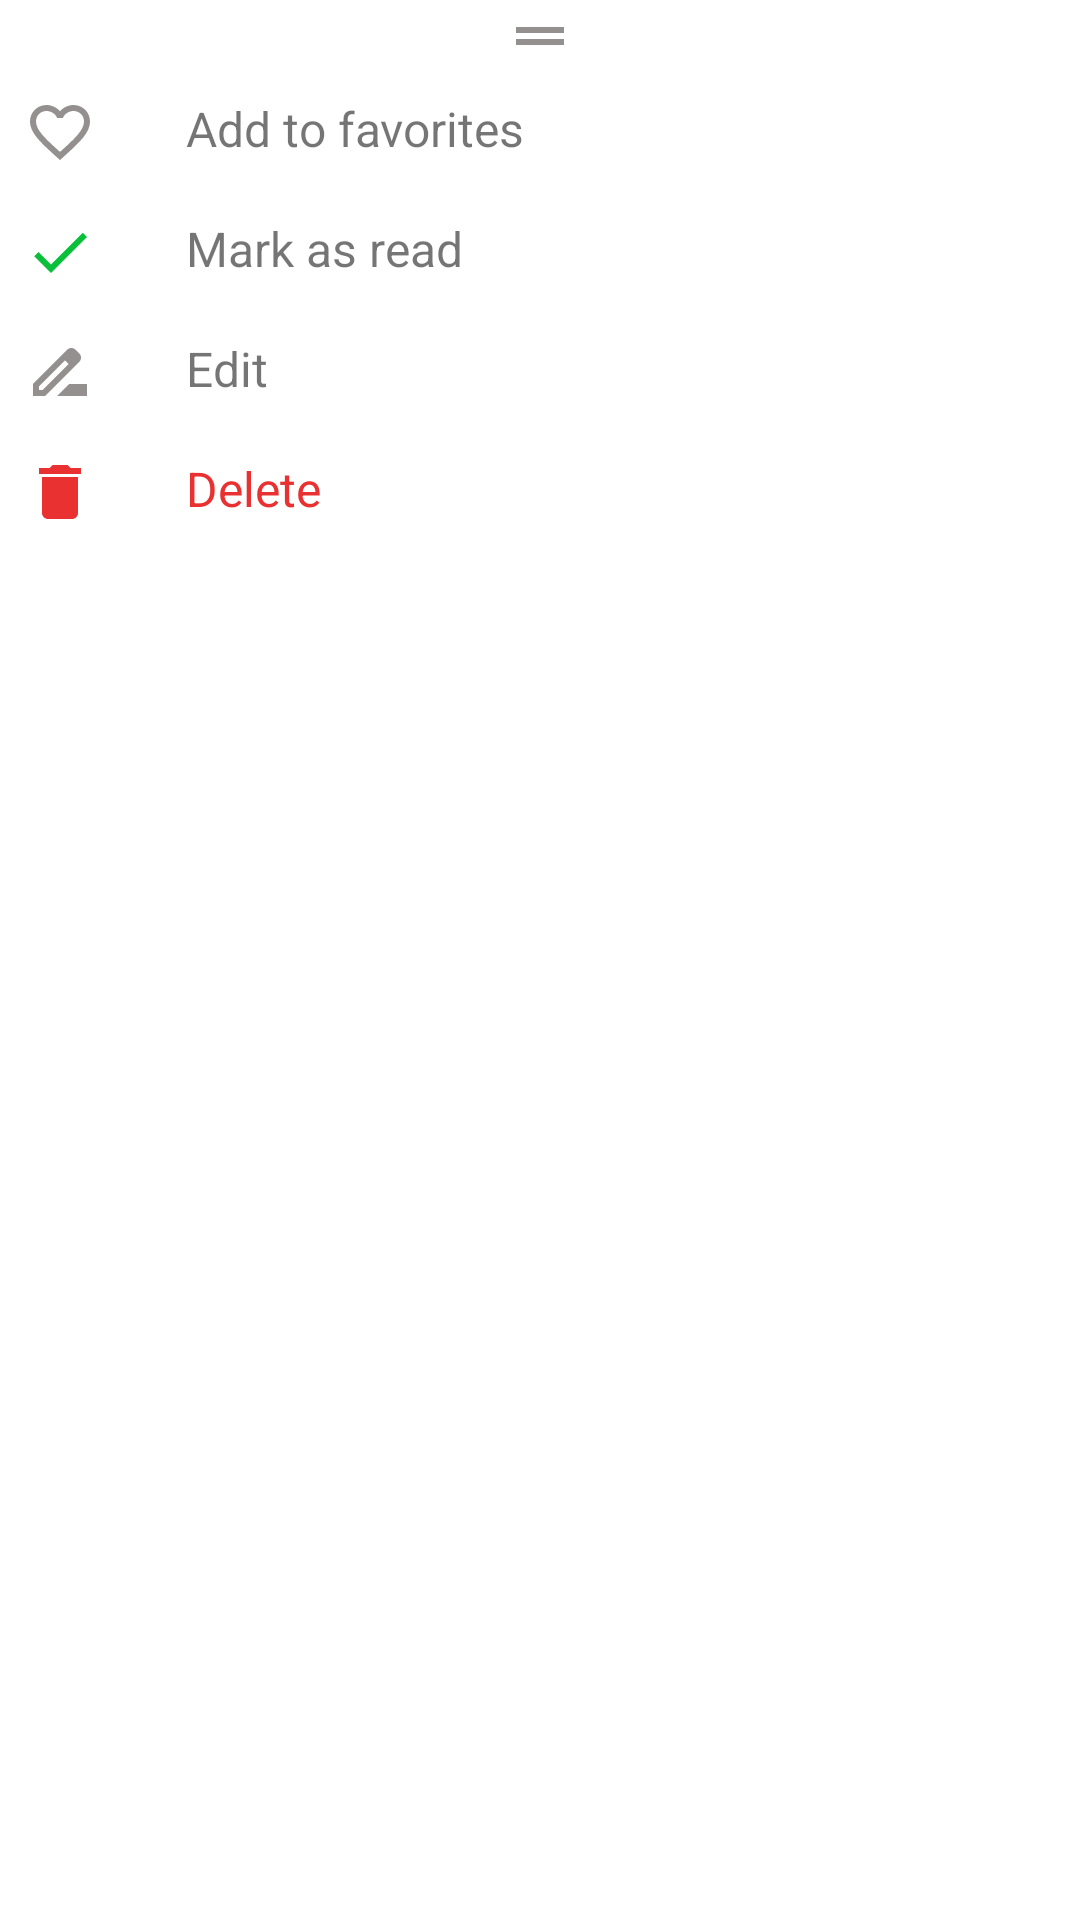

Icon bounding boxes for this 1080 × 1920 phone screenshot, format Rect(x1, y1, x2, y2):
add favorite: Rect(30, 105, 90, 160)
drag handle: Rect(516, 27, 564, 45)
rename: Rect(33, 348, 87, 396)
